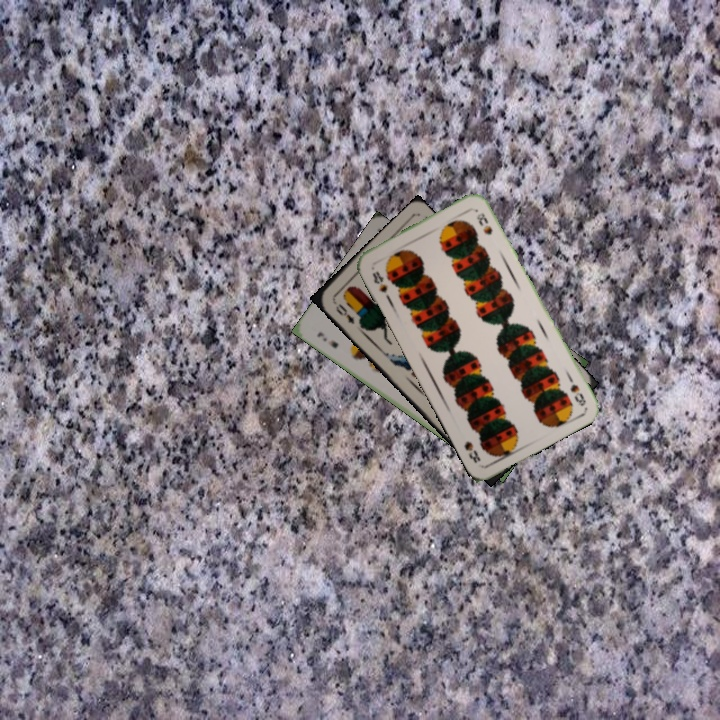E7: (313, 328, 341, 351)
EO: (332, 299, 357, 327)
S8: (563, 371, 588, 409), (368, 267, 390, 296)
